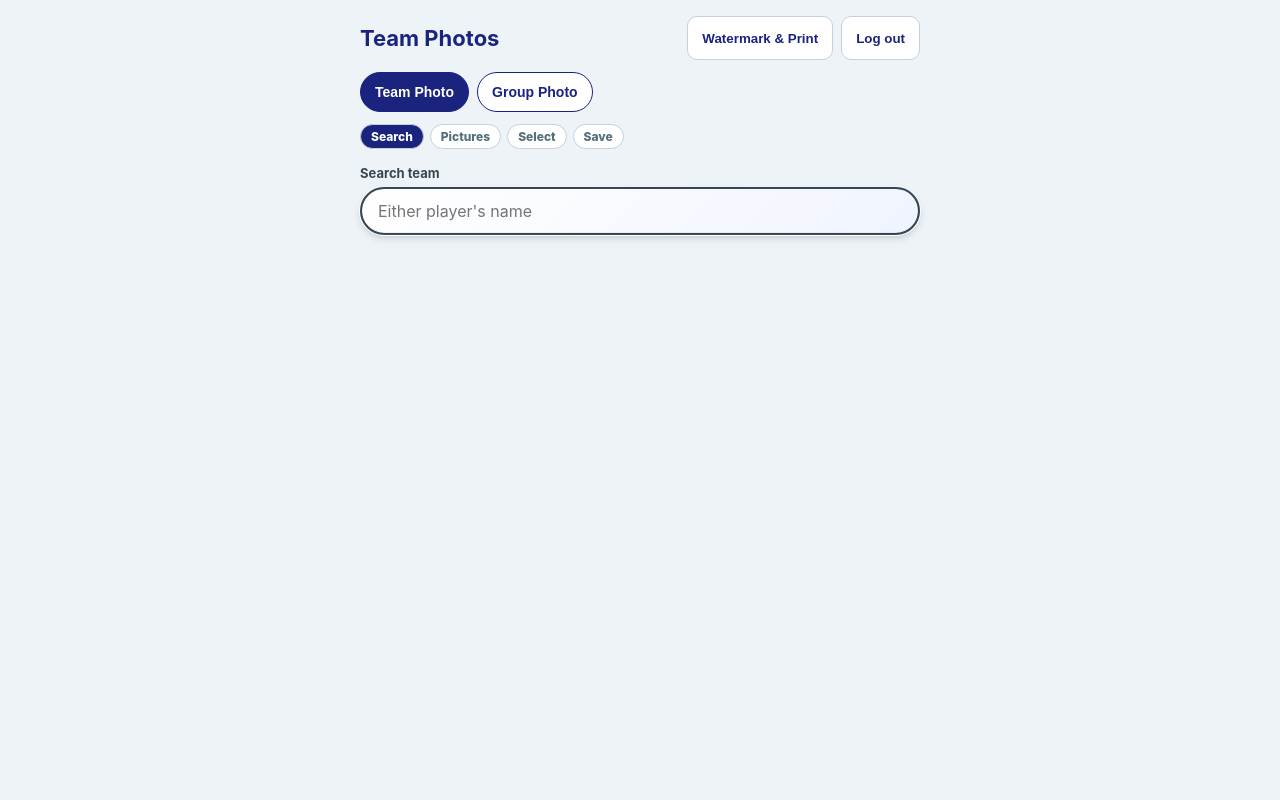
Test: delete official team photo › deletes the team photograph once and shows the placeholder immediately
The image size is (1280, 800).
In the field with placeholder "Either player's name": (640, 211) [360,187,920,235], type "Jane"
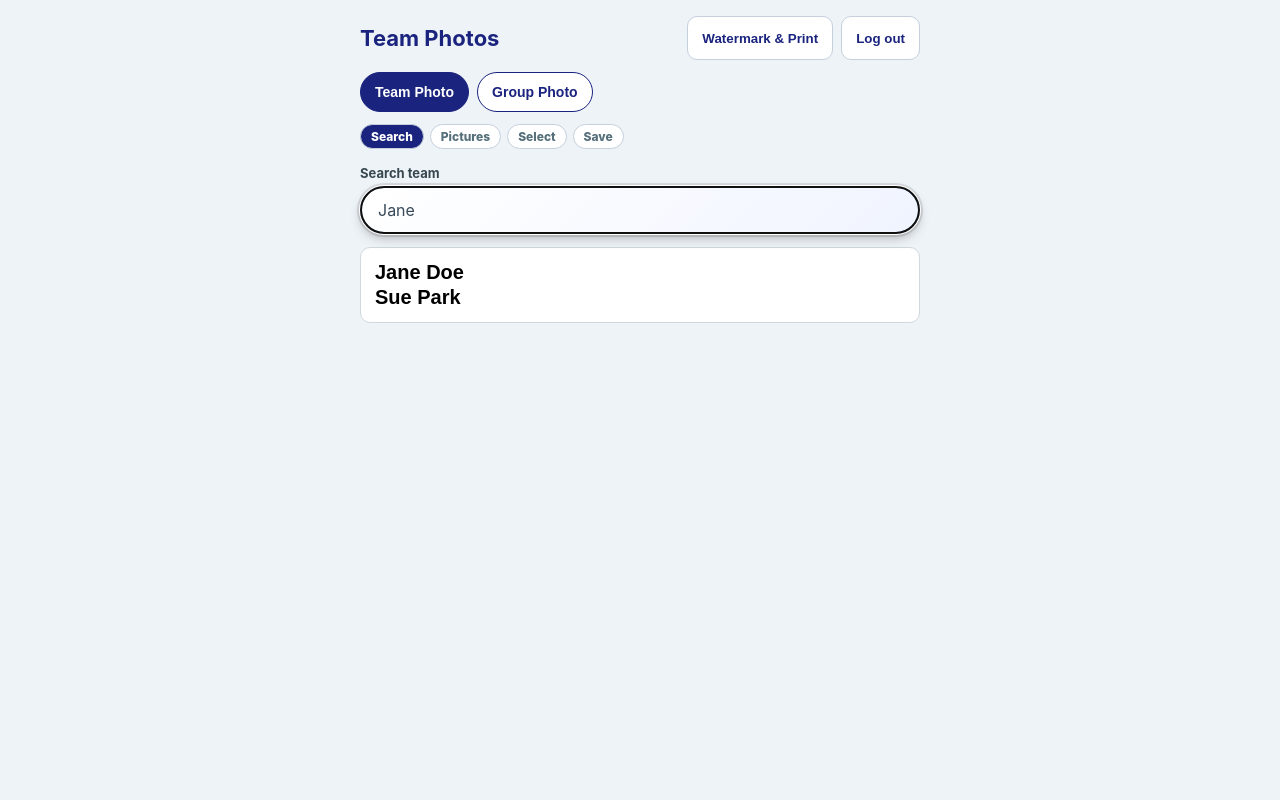
Click the button "Jane Doe Sue Park": (419, 272) [360,247,920,323]
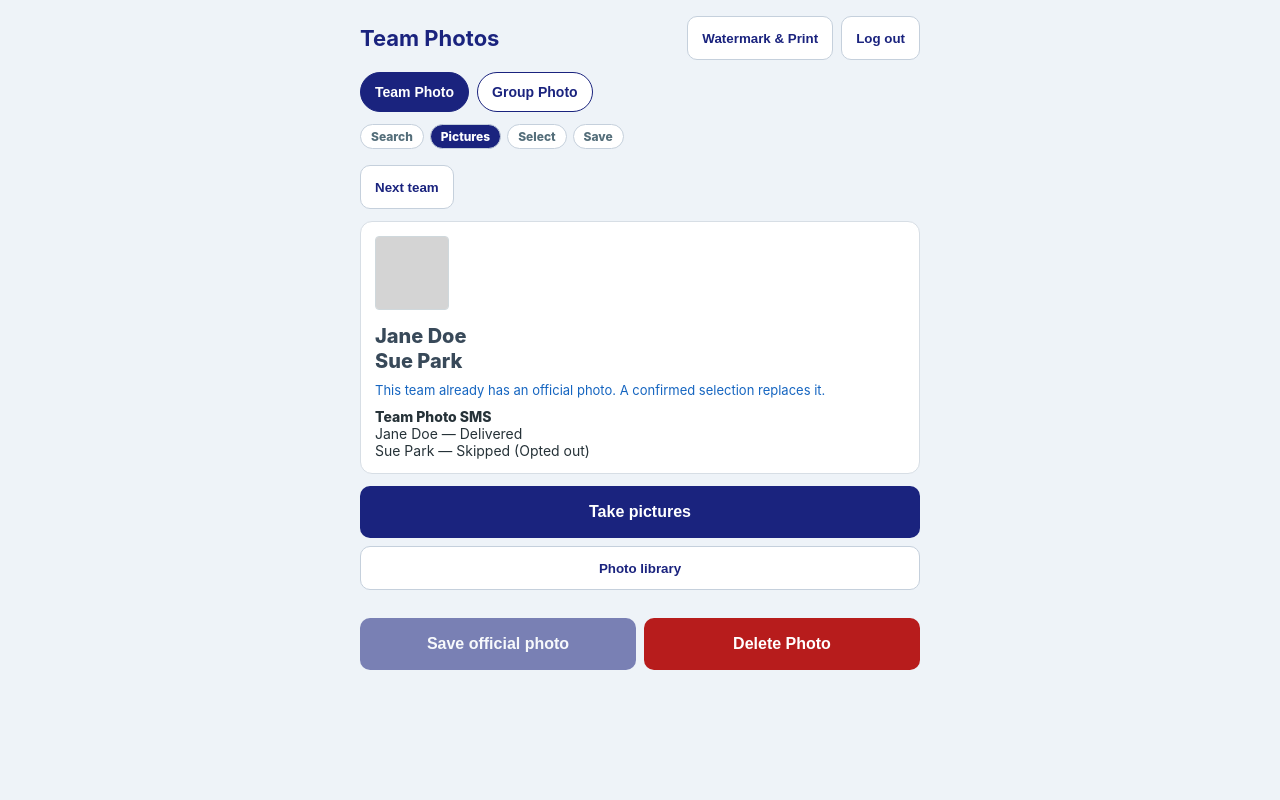
expect the button "Delete Photo" is shown: met
Click the button "Delete Photo": (782, 644) [644,618,920,670]
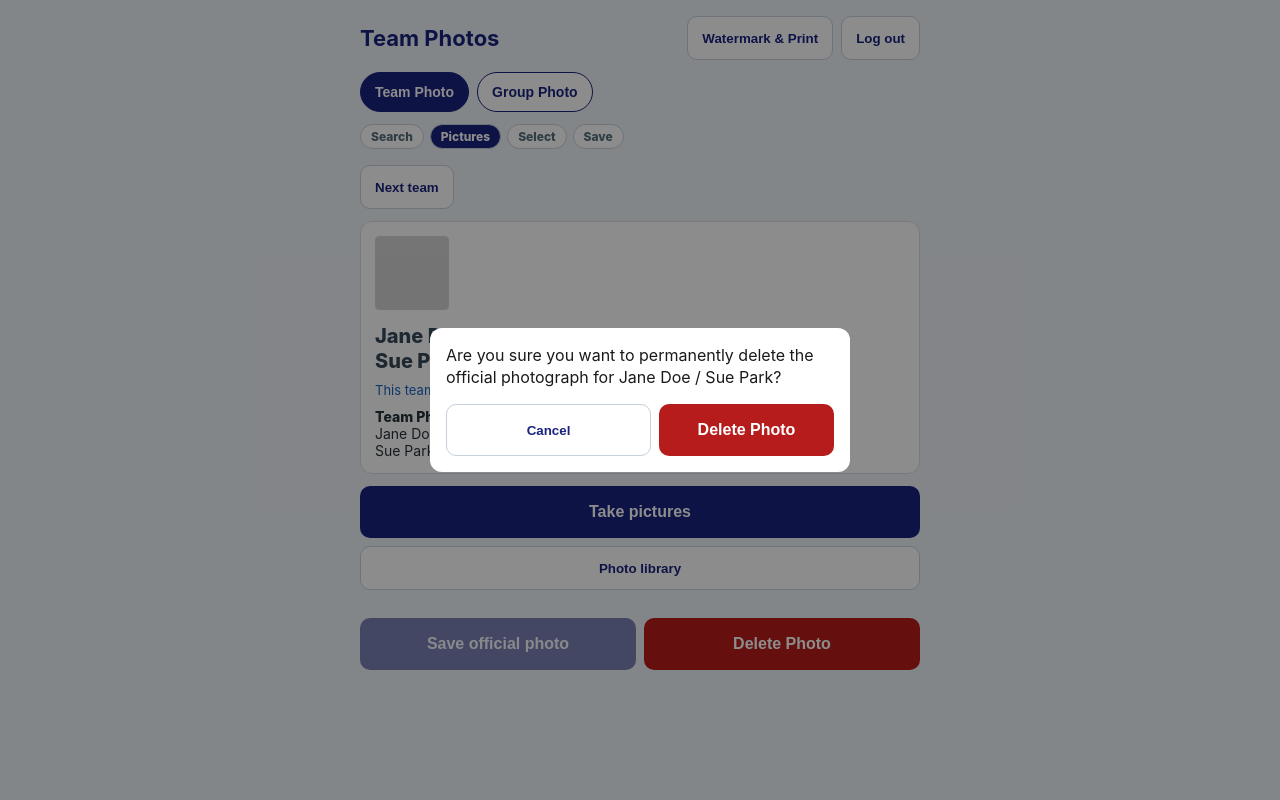
Click the button "Delete Photo": (746, 430) [659,404,834,456]
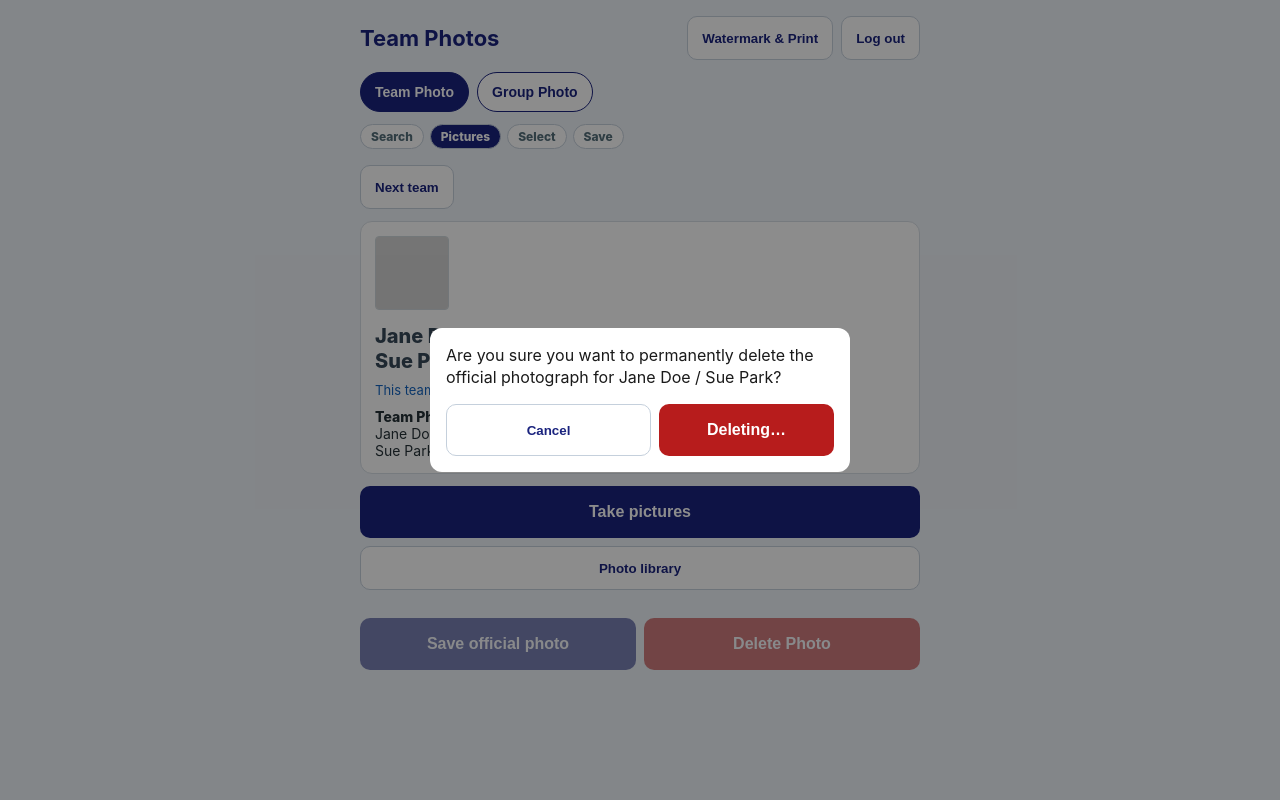
Click the button named "Delete Photo": (746, 430) [659,404,834,456]
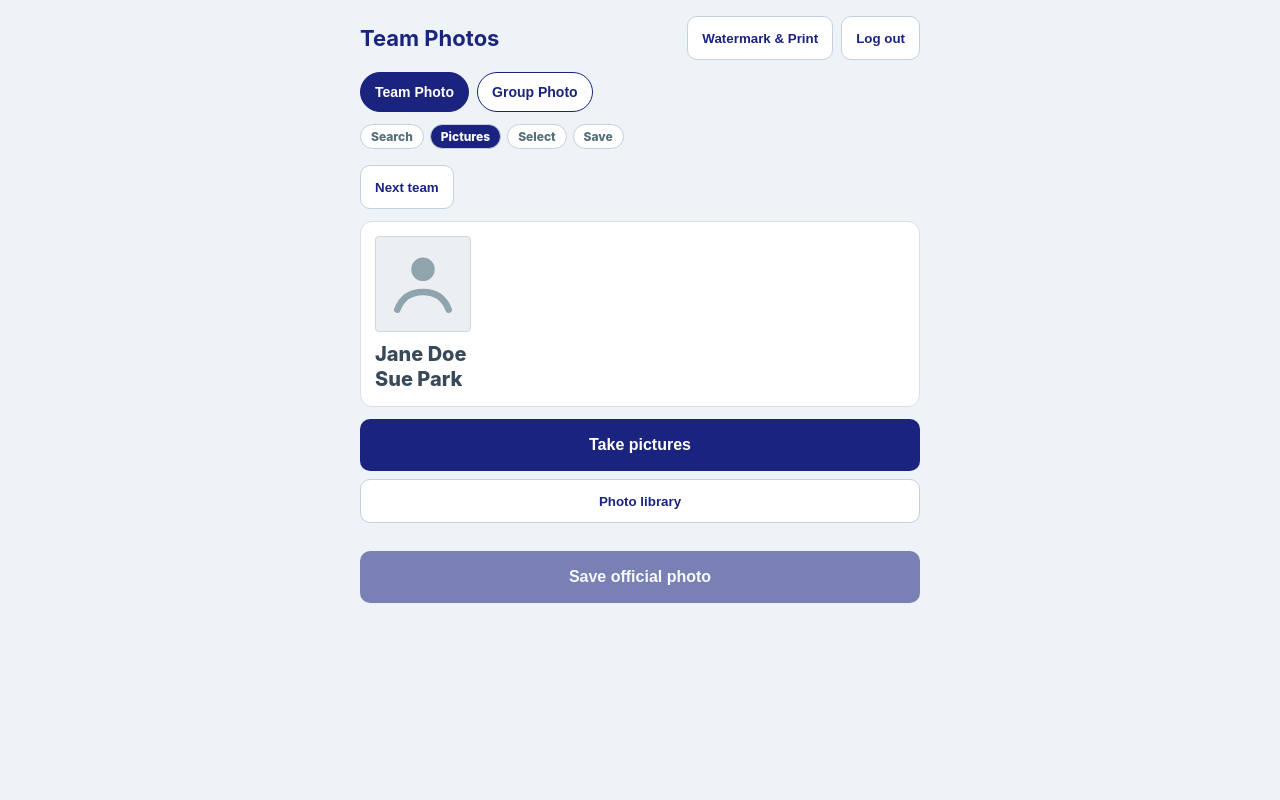
expect the element with test id "team-photo-placeholder" is shown: met, box [375,236,471,332]
expect the picture with test id "team-photo" is gone: met
expect the button "Delete Photo" is gone: met
